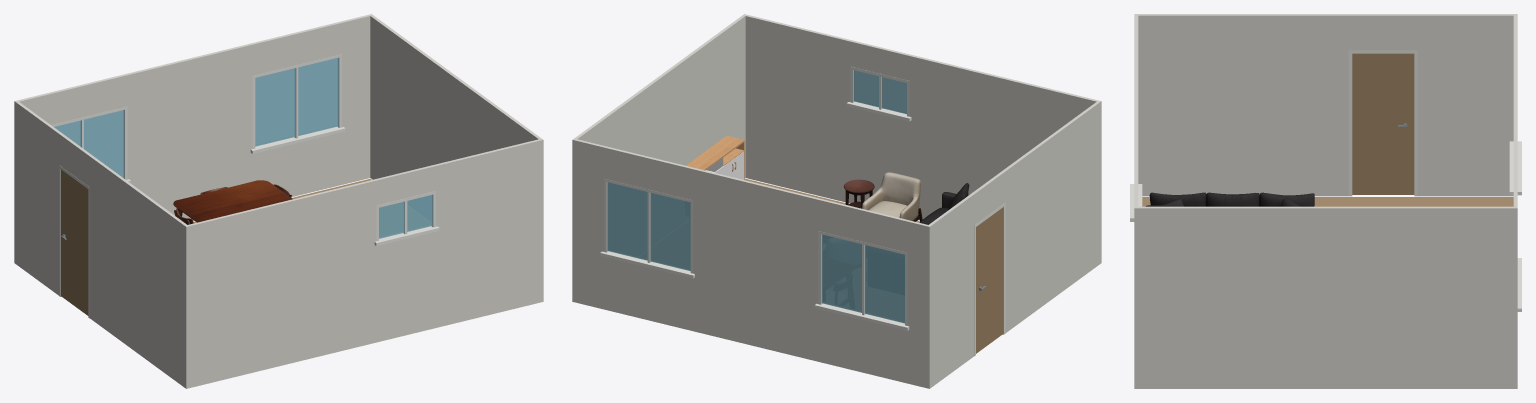
The model's file is scenesmith.glb.
3 renders of one model, left to right at view 1: azimuth 30°, elevation 25°; view 2: azimuth 150°, elevation 25°; view 3: azimuth 270°, elevation 25°, orthographic. The views are drawn at different scales.
Parts seen in each view (by area): view 1: scene_044_living_room_south_wall, scene_044_living_room_north_wall, scene_044_living_room_west_wall, scene_044_living_room_east_wall, scene_044_living_room_north_wall Window 0 | glazing, scene_044_living_room_west_wall Door 0 | wood leaf, furniture_group, scene_044_living_room_north_wall Window 0 | jamb, scene_044_living_room_south_wall Window 0 | glazing, scene_044_living_room_south_wall Window 0 | jamb, scene_044_living_room_west_wall Door 0 | jamb; view 2: scene_044_living_room_north_wall, scene_044_living_room_south_wall, scene_044_living_room_west_wall, scene_044_living_room_east_wall, scene_044_living_room_north_wall Window 0 | glazing, scene_044_living_room_west_wall Door 0 | wood leaf, scene_044_living_room_north_wall Window 0 | jamb, furniture_group, scene_044_living_room_south_wall Window 0 | glazing, P_1cd3cedf420c5aaa.001, scene_044_living_room_south_wall Window 0 | jamb, scene_044_living_room_west_wall Door 0 | jamb; view 3: scene_044_living_room_east_wall, scene_044_living_room_west_wall, scene_044_living_room_west_wall Door 0 | wood leaf, furniture_group, floor, scene_044_living_room_south_wall, scene_044_living_room_west_wall Door 0 | jamb, scene_044_living_room_north_wall, scene_044_living_room_north_wall Window 0 | jamb.
Boxes of the visible parts, bbox=[...] form: scene_044_living_room_south_wall: bbox=[185, 138, 543, 388]; scene_044_living_room_north_wall: bbox=[14, 14, 372, 263]; scene_044_living_room_west_wall: bbox=[16, 102, 186, 388]; scene_044_living_room_east_wall: bbox=[370, 15, 541, 179]; scene_044_living_room_north_wall Window 0 | glazing: bbox=[54, 57, 338, 178]; scene_044_living_room_west_wall Door 0 | wood leaf: bbox=[61, 169, 88, 315]; furniture_group: bbox=[173, 180, 292, 224]; scene_044_living_room_north_wall Window 0 | jamb: bbox=[51, 54, 345, 183]; scene_044_living_room_south_wall Window 0 | glazing: bbox=[379, 194, 432, 238]; scene_044_living_room_south_wall Window 0 | jamb: bbox=[374, 191, 439, 246]; scene_044_living_room_west_wall Door 0 | jamb: bbox=[59, 165, 89, 318]; scene_044_living_room_north_wall: bbox=[572, 138, 931, 388]; scene_044_living_room_south_wall: bbox=[743, 14, 1101, 220]; scene_044_living_room_west_wall: bbox=[929, 101, 1101, 387]; scene_044_living_room_east_wall: bbox=[574, 15, 745, 178]; scene_044_living_room_north_wall Window 0 | glazing: bbox=[607, 182, 904, 323]; scene_044_living_room_west_wall Door 0 | wood leaf: bbox=[976, 207, 1003, 353]; scene_044_living_room_north_wall Window 0 | jamb: bbox=[600, 178, 909, 330]; furniture_group: bbox=[843, 172, 969, 224]; scene_044_living_room_south_wall Window 0 | glazing: bbox=[853, 70, 906, 114]; P_1cd3cedf420c5aaa.001: bbox=[686, 135, 744, 179]; scene_044_living_room_south_wall Window 0 | jamb: bbox=[846, 66, 911, 121]; scene_044_living_room_west_wall Door 0 | jamb: bbox=[974, 202, 1005, 355]; scene_044_living_room_east_wall: bbox=[1138, 206, 1517, 388]; scene_044_living_room_west_wall: bbox=[1138, 14, 1513, 196]; scene_044_living_room_west_wall Door 0 | wood leaf: bbox=[1352, 53, 1414, 194]; furniture_group: bbox=[1146, 192, 1314, 206]; floor: bbox=[1142, 197, 1513, 206]; scene_044_living_room_south_wall: bbox=[1134, 14, 1138, 388]; scene_044_living_room_west_wall Door 0 | jamb: bbox=[1348, 50, 1417, 196]; scene_044_living_room_north_wall: bbox=[1513, 14, 1517, 208]; scene_044_living_room_north_wall Window 0 | jamb: bbox=[1509, 141, 1521, 311].
Size of the model in its own units: 6.05 by 2.61 by 5.11.
17 materials, 8 textured.
